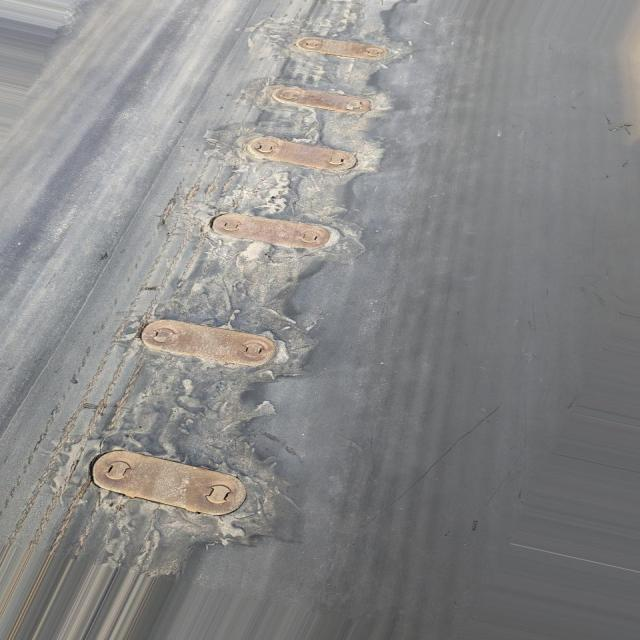patch work: (65, 0, 390, 556)
